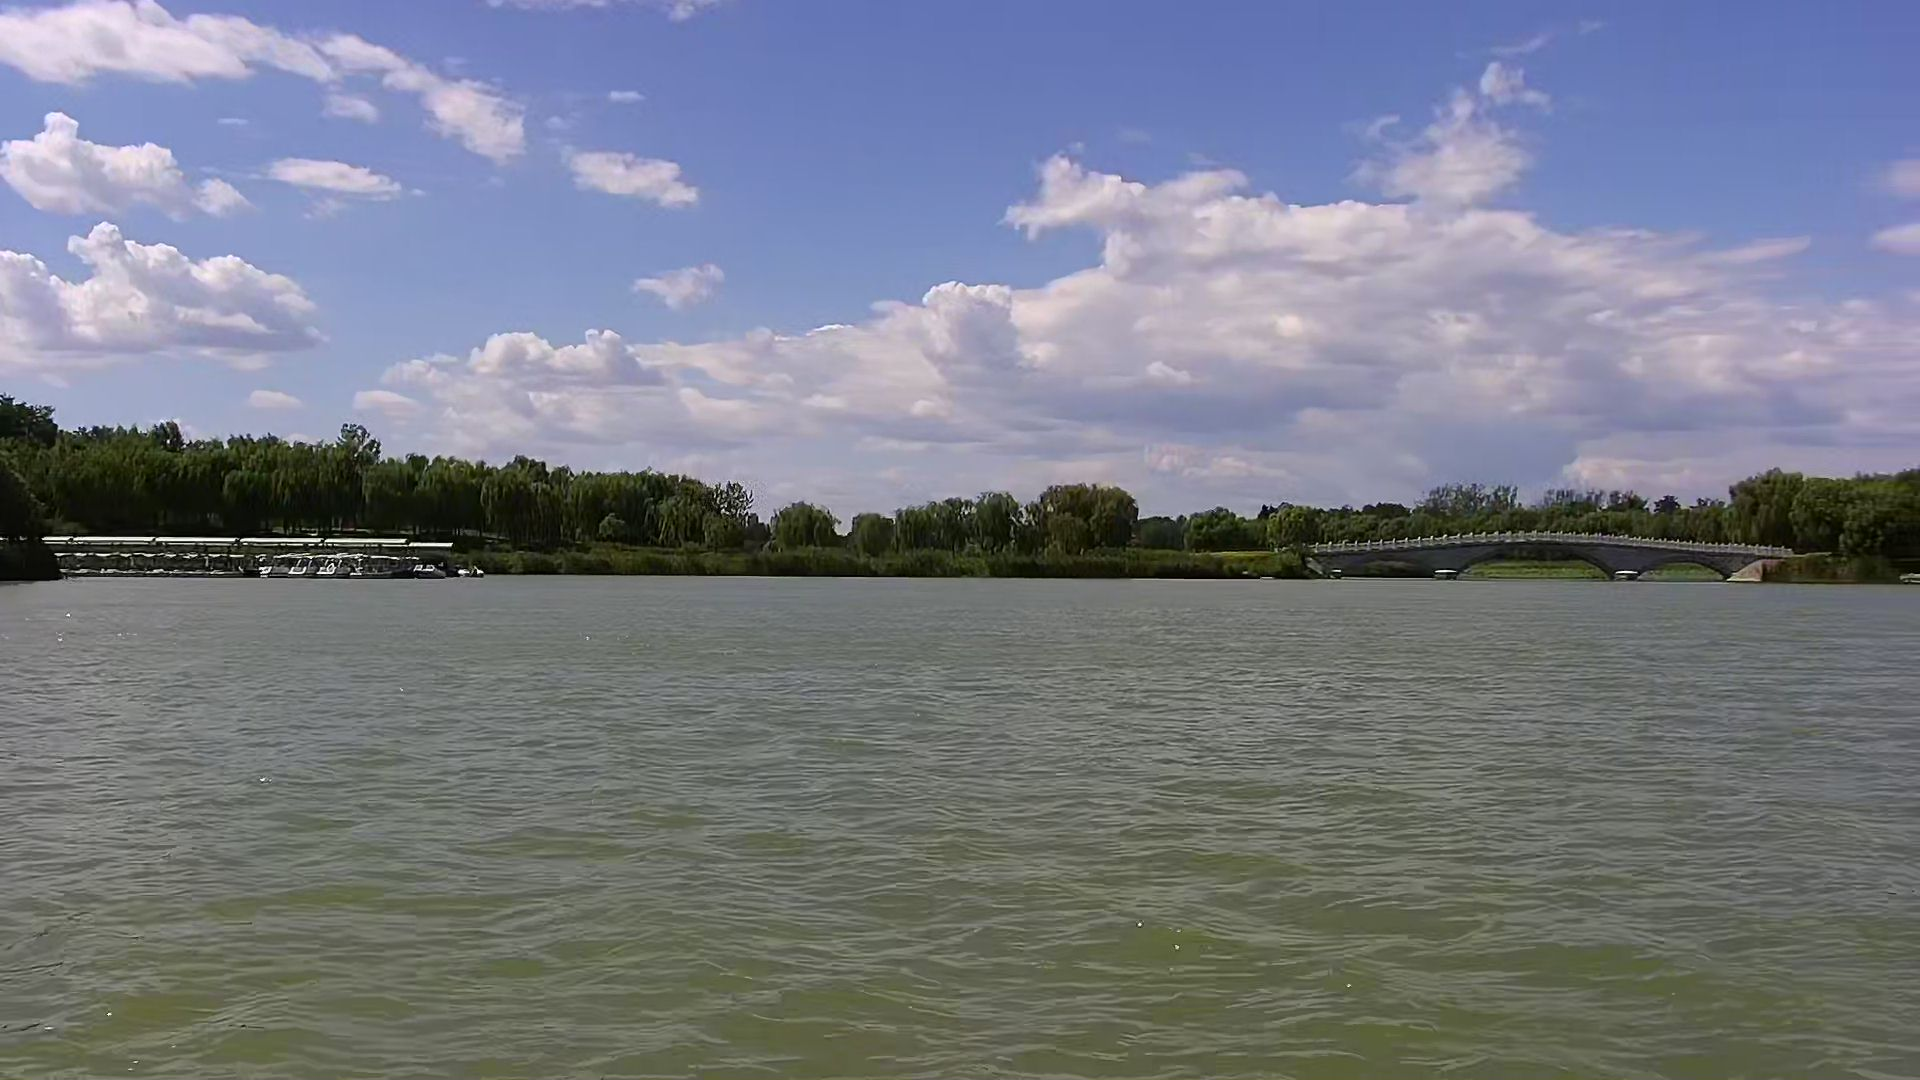bridge: (1305, 527, 1800, 597)
harbor: (36, 527, 491, 585)
